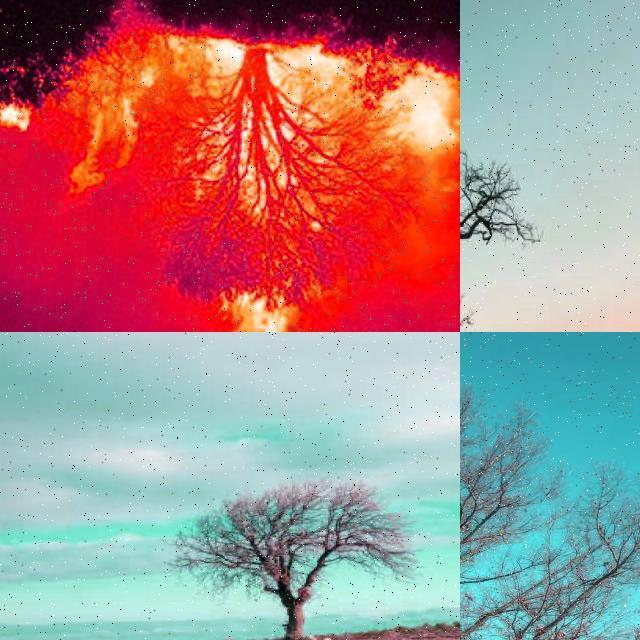tree: (144, 48, 420, 316), (460, 347, 640, 640), (460, 44, 640, 332), (164, 476, 412, 640)
